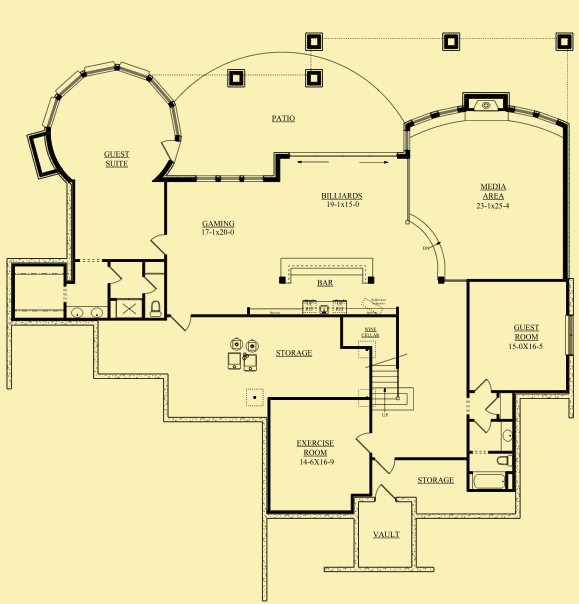door: (372, 481, 395, 506), (148, 233, 169, 259), (168, 313, 195, 333), (370, 456, 397, 475), (354, 429, 374, 454), (473, 417, 498, 436), (107, 263, 127, 286), (143, 272, 158, 294), (474, 379, 495, 393)
large_sink: (145, 297, 168, 317), (492, 452, 516, 470)
small_sink: (62, 304, 109, 317), (499, 421, 517, 452)
stairs: (367, 357, 417, 420)
tub: (467, 472, 510, 492)
window: (72, 54, 157, 85), (409, 102, 459, 126), (514, 103, 557, 129), (193, 171, 263, 184), (563, 307, 576, 355)
